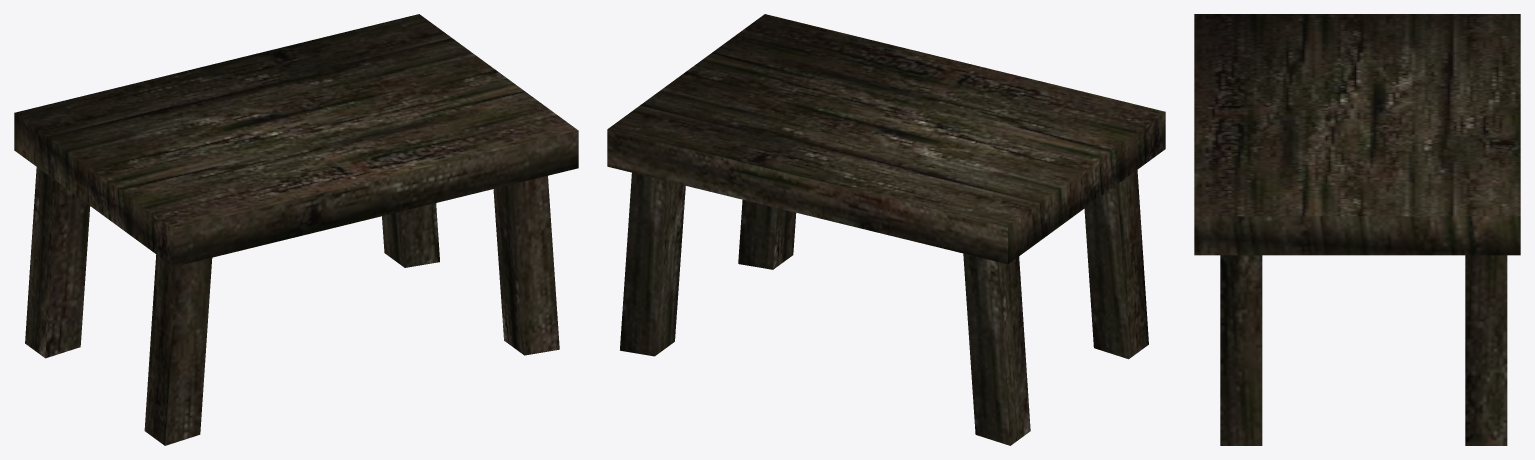
Rendered from OC_TABLE_V2.glb.
3 renders of one model, left to right at view 1: azimuth 30°, elevation 25°; view 2: azimuth 150°, elevation 25°; view 3: azimuth 270°, elevation 25°, orthographic. The views are drawn at different scales.
Visible parts, largest first — view 1: Mesh; view 2: Mesh; view 3: Mesh.
Part boxes in pixels (x1,y1,x2,y2): Mesh: (14,14,578,445); Mesh: (607,14,1165,445); Mesh: (1194,14,1520,445).
Size of the model in its own units: 1.6 by 0.8584 by 1.09.
1 material, 1 textured.
